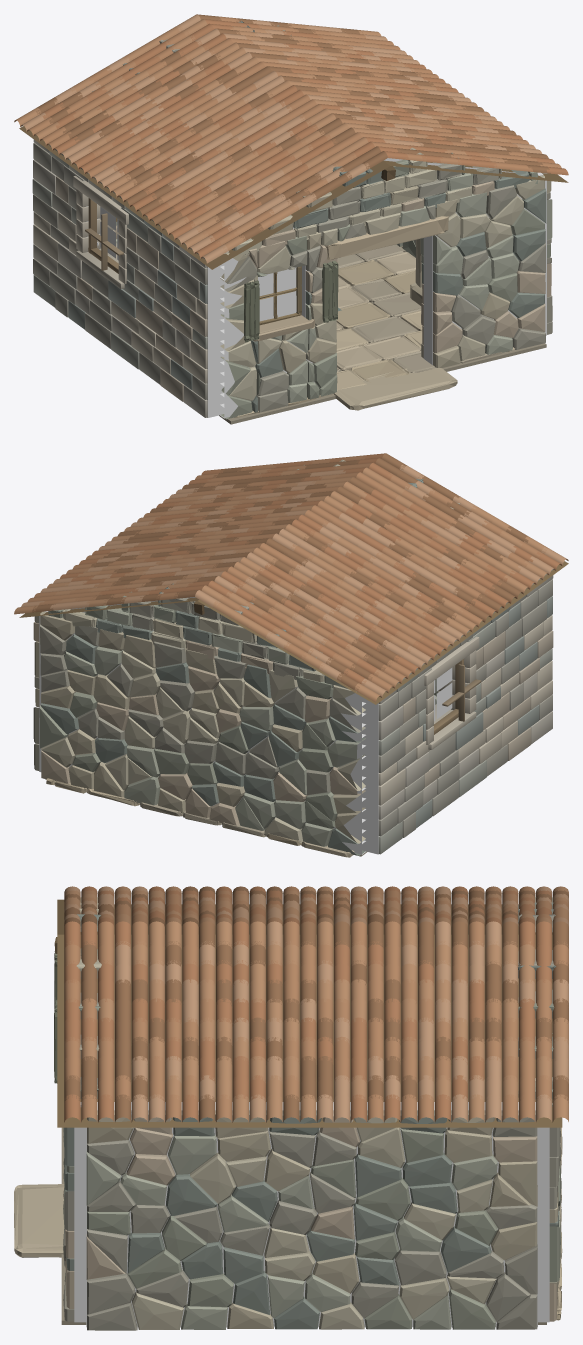
File: Maison_Finition_prototype.fbx
3 renders of one model, top to bottom at view 1: azimuth 30°, elevation 25°; view 2: azimuth 150°, elevation 25°; view 3: azimuth 270°, elevation 25°, orthographic. The views are drawn at different scales.
Parts seen in each view (by area): view 1: Tuiles_Conserve, Maconnerie_Conserve, Maconnerie_Assises, Dallage_Conserve, Charpente_Mobilier_Conserve, Joints_Conserve, Joints_Chaux_Retraits, Vitres_Fenetres_Conserve, Bois_Assemblages; view 2: Tuiles_Conserve, Maconnerie_Conserve, Maconnerie_Assises, Joints_Chaux_Retraits, Joints_Conserve, Charpente_Mobilier_Conserve, Dallage_Conserve, Bois_Assemblages, Vitres_Fenetres_Conserve; view 3: Tuiles_Conserve, Maconnerie_Conserve, Charpente_Mobilier_Conserve, Joints_Conserve, Dallage_Conserve.
Part boxes in pixels (x1,y1,x2,y2): Tuiles_Conserve: (14, 14, 568, 263); Maconnerie_Conserve: (86, 21, 552, 419); Maconnerie_Assises: (32, 139, 207, 417); Dallage_Conserve: (219, 244, 546, 424); Charpente_Mobilier_Conserve: (19, 126, 568, 342); Joints_Conserve: (220, 158, 546, 418); Joints_Chaux_Retraits: (86, 206, 224, 417); Vitres_Fenetres_Conserve: (100, 206, 296, 321); Bois_Assemblages: (85, 198, 123, 273); Tuiles_Conserve: (14, 453, 568, 702); Maconnerie_Conserve: (33, 459, 460, 855); Maconnerie_Assises: (378, 569, 553, 854); Joints_Chaux_Retraits: (362, 667, 466, 854); Joints_Conserve: (39, 597, 365, 854); Charpente_Mobilier_Conserve: (19, 561, 568, 704); Dallage_Conserve: (45, 778, 366, 857); Bois_Assemblages: (433, 659, 481, 734); Vitres_Fenetres_Conserve: (433, 667, 452, 721); Tuiles_Conserve: (64, 886, 568, 1122); Maconnerie_Conserve: (63, 897, 561, 1330); Charpente_Mobilier_Conserve: (54, 899, 562, 1127); Joints_Conserve: (74, 1102, 549, 1327); Dallage_Conserve: (14, 1127, 562, 1324).
Bounding box in the file's own units: 715 × 437 × 725.
